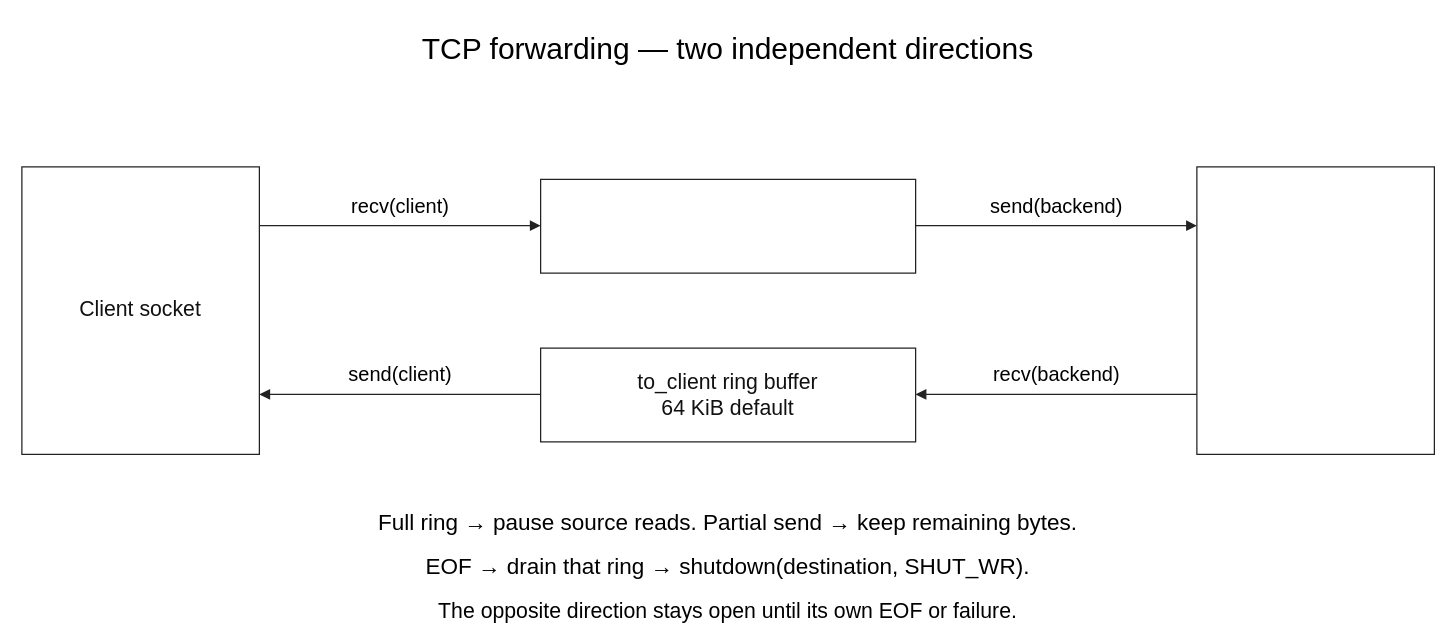
Some shapes in this 1456 by 644 pixel diagram are drawn without their labels. The box of each missing label's shape, as (x1, y1, x2, y2) in pixels:
Backend socket: (1196, 166, 1434, 454)
to_backend ring buffer 64 KiB default: (539, 178, 916, 273)
